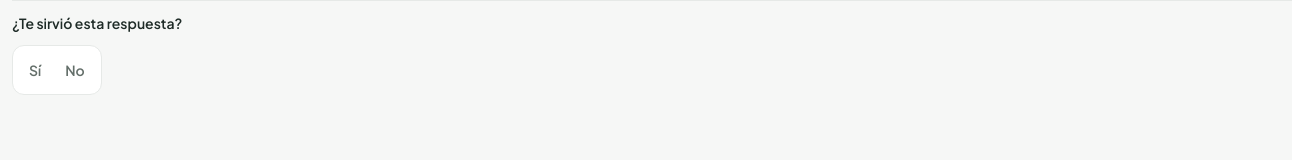
ChatFeedback (HU25) › "Sí" manda useful: true al mensaje y deja el agradecimiento
The image size is (1292, 160).
Step 1. Click the button "Sí" → point(35, 70), box x1=17 y1=50 x2=53 y2=90
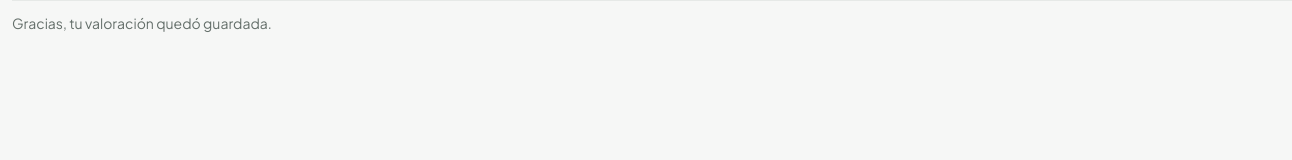
expect the text "Gracias, tu valoración quedó guardada." is shown: met, box x1=12 y1=0 x2=1291 y2=33
expect the button "Sí" is gone: met
